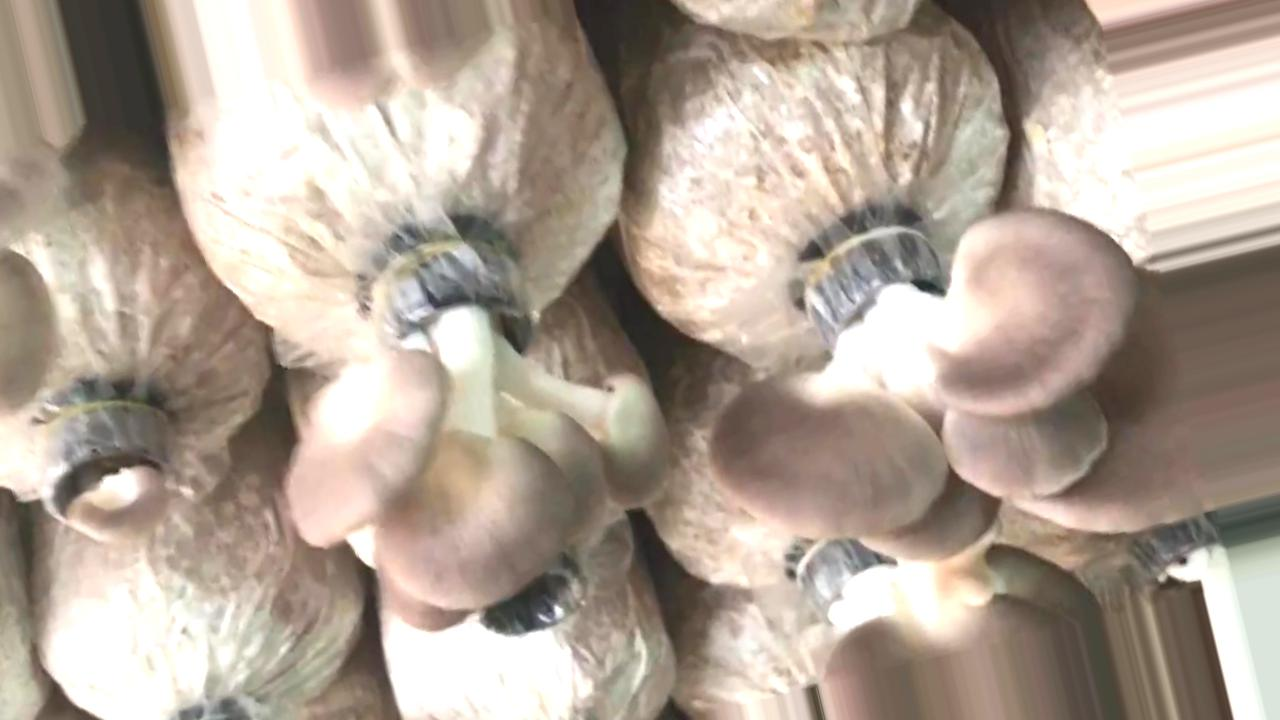nam: (713, 213, 1280, 553), (291, 251, 669, 630), (799, 544, 1122, 720), (34, 395, 170, 545), (302, 3, 490, 109), (1, 249, 56, 414)
